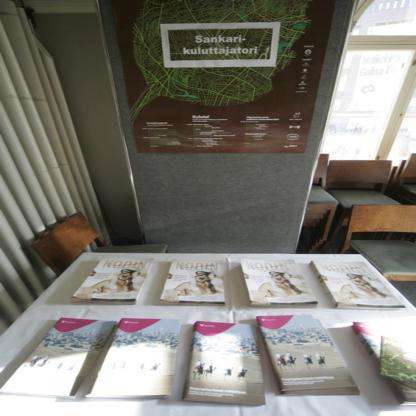book: (0, 317, 118, 400), (254, 310, 361, 397), (83, 316, 180, 398), (176, 316, 262, 406), (357, 322, 415, 404), (310, 258, 402, 307), (64, 258, 156, 306), (240, 257, 319, 304), (155, 256, 226, 306)
